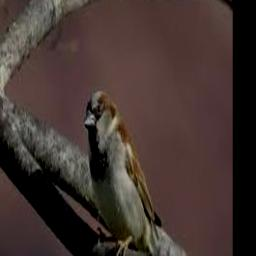Sparrow: (84, 90, 175, 256)
